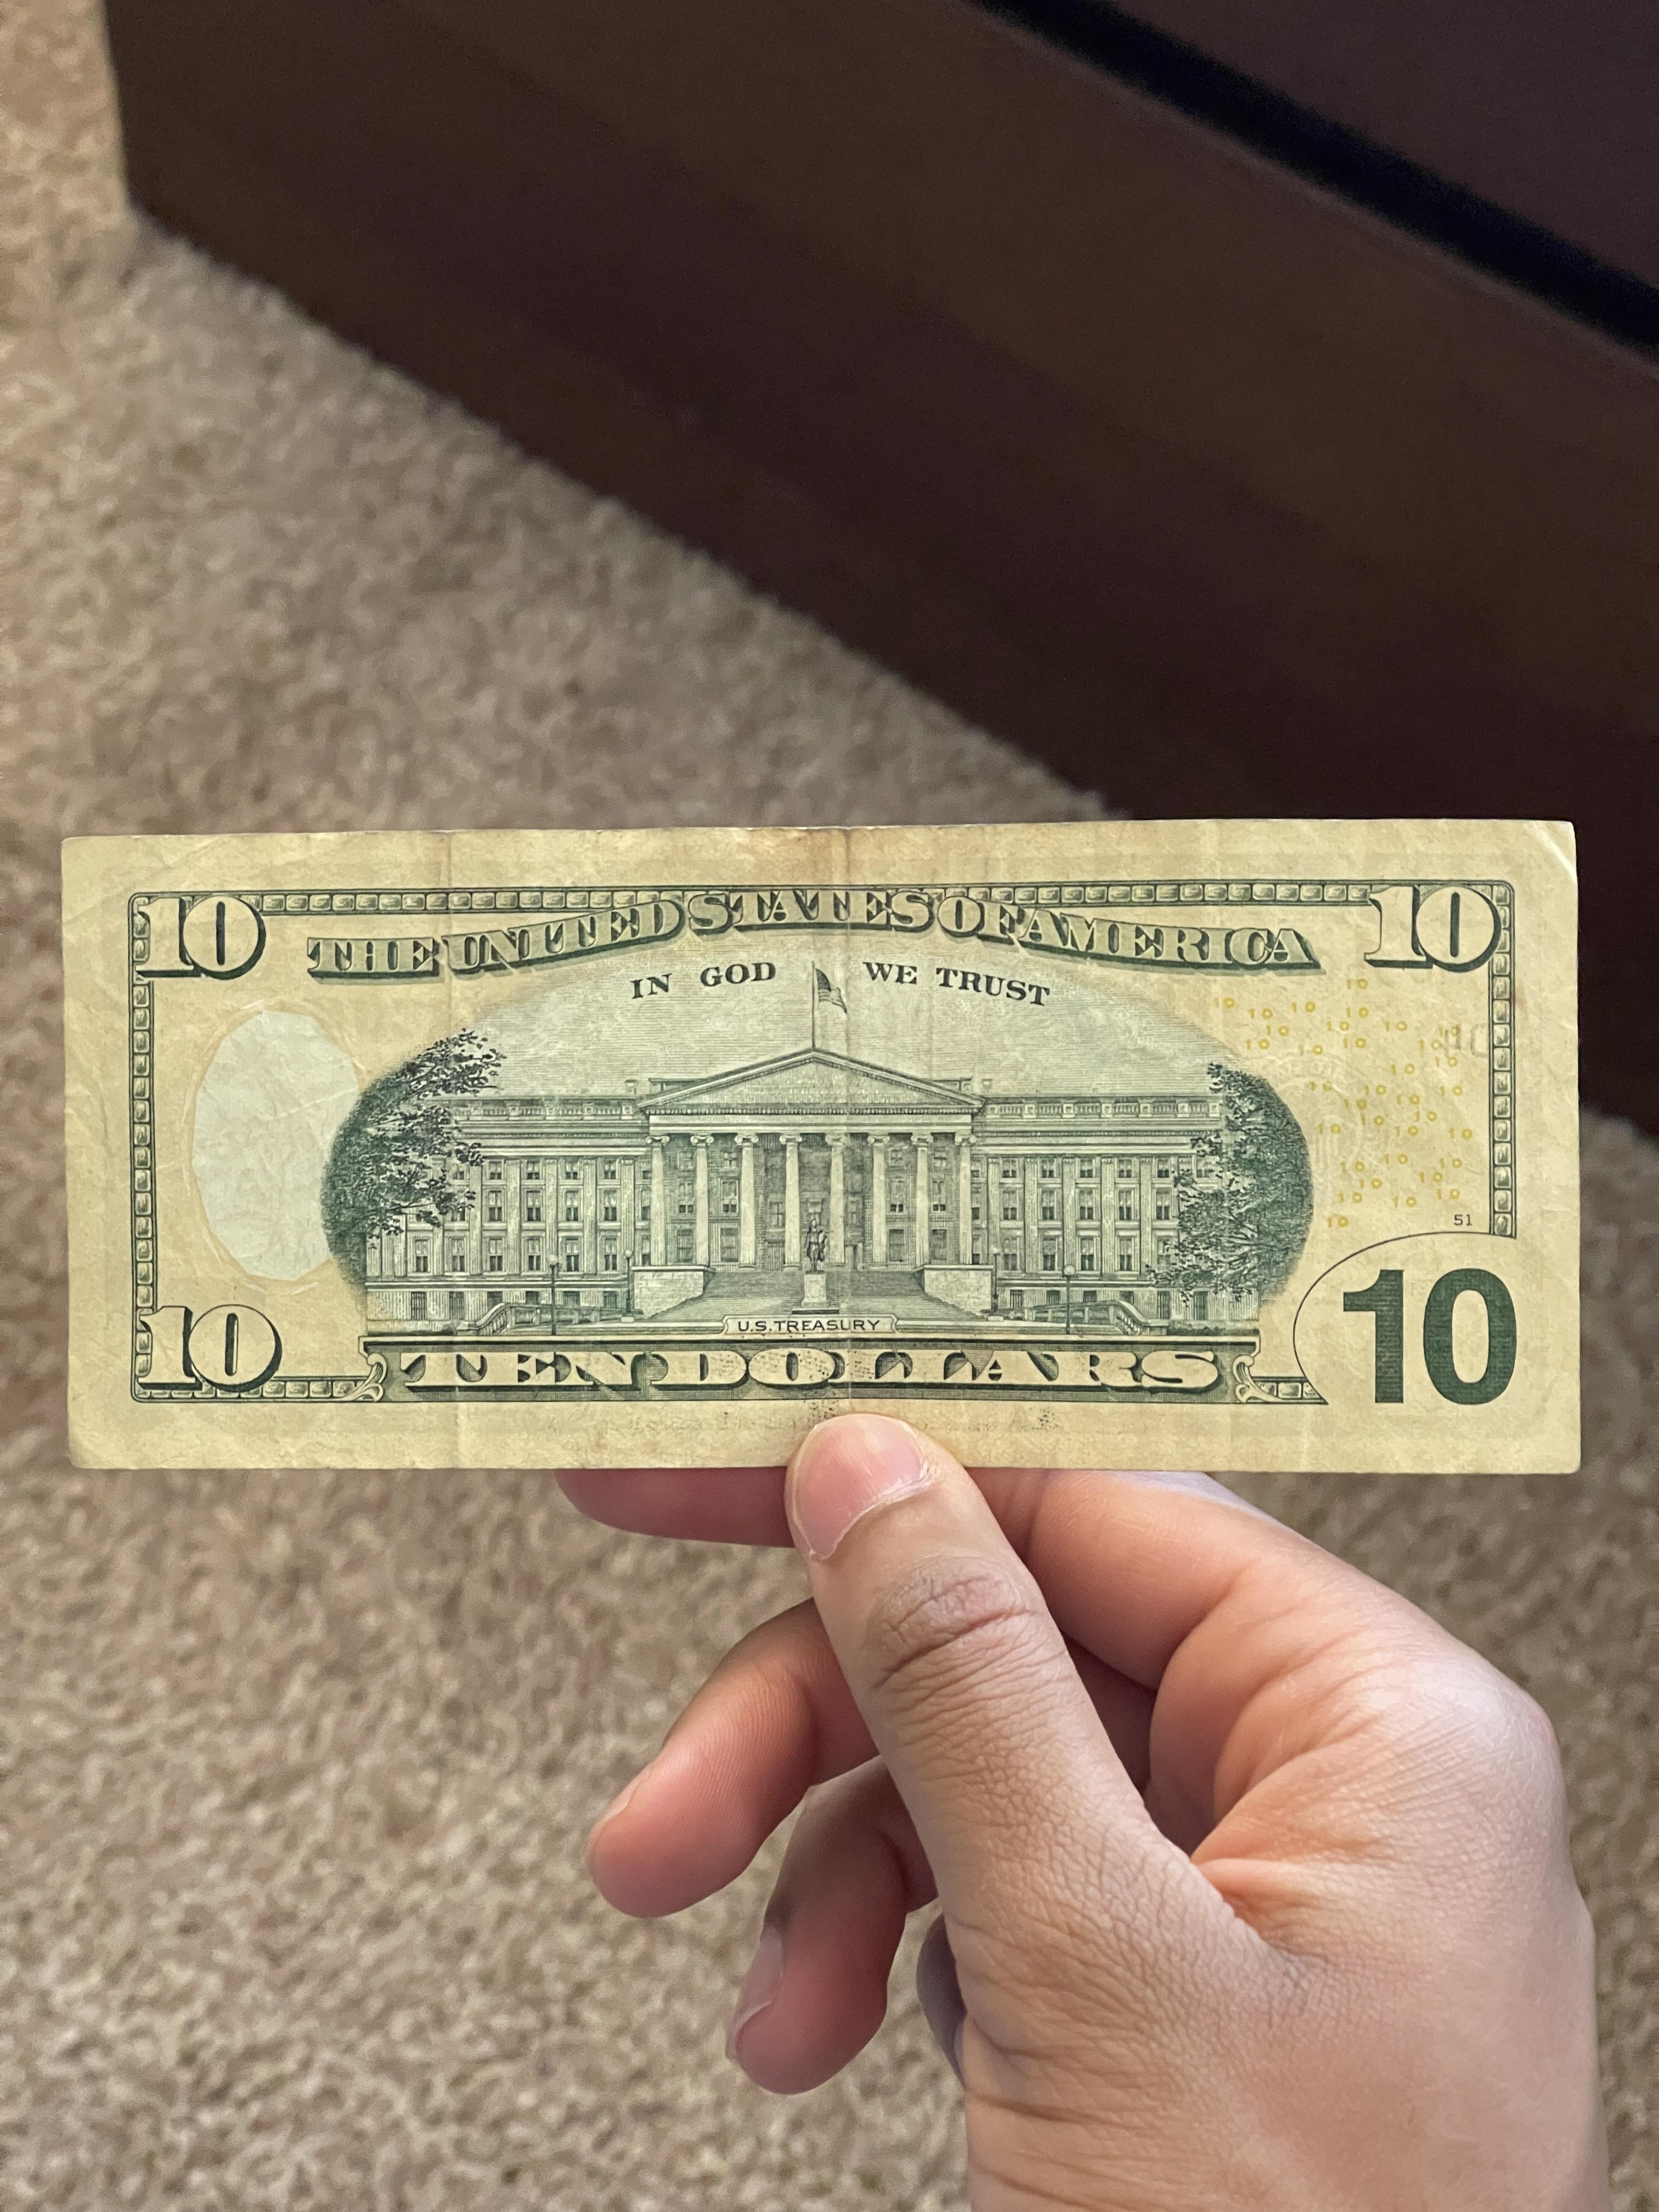TenBill: (51, 815, 1589, 1484)
